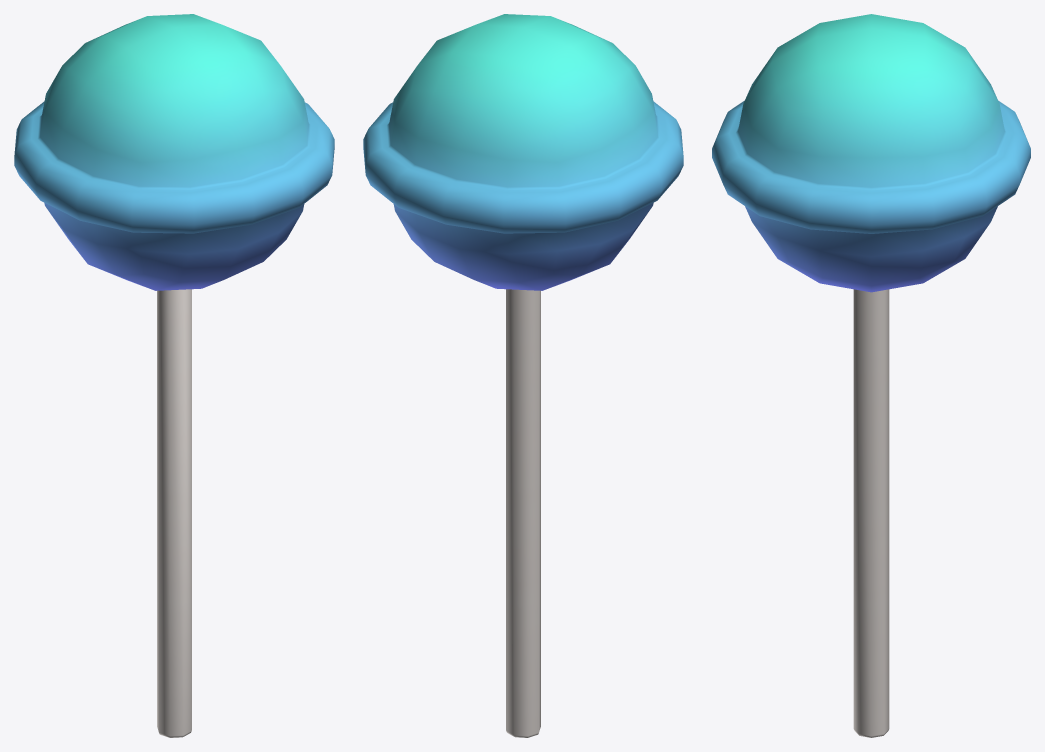
Rendered from candy_glass_5.fbx.
3 renders of one model, left to right at view 1: azimuth 30°, elevation 25°; view 2: azimuth 150°, elevation 25°; view 3: azimuth 270°, elevation 25°, orthographic.
Visible parts, largest first — view 1: c_g_5; view 2: c_g_5; view 3: c_g_5.
Boxes of the visible parts, x1,y1,x2,y2 form: c_g_5: (14, 14, 334, 737); c_g_5: (363, 14, 683, 737); c_g_5: (712, 14, 1030, 737).
Bounding box in the file's own units: 124 × 301 × 124.
